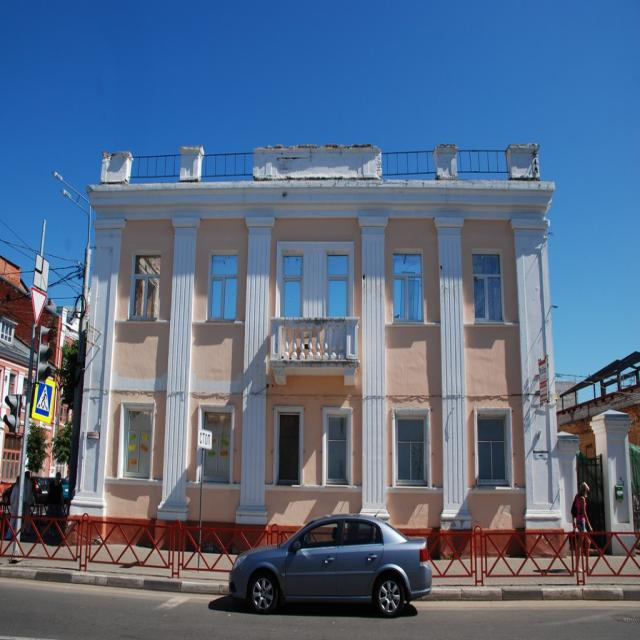car: (225, 507, 431, 623)
